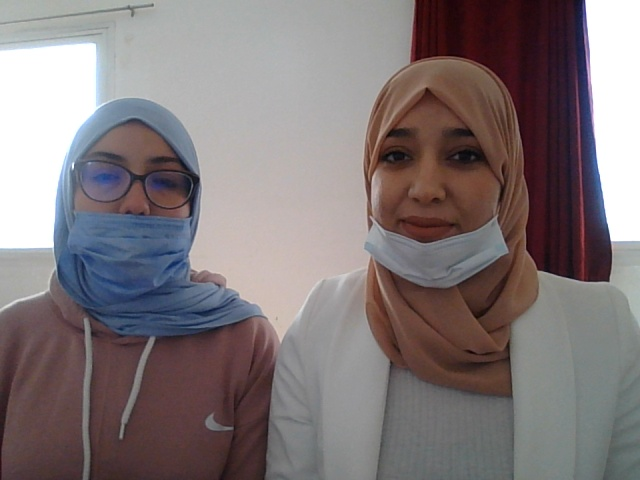mask_weared_incorrect: (355, 59, 535, 340), (54, 99, 219, 335)
